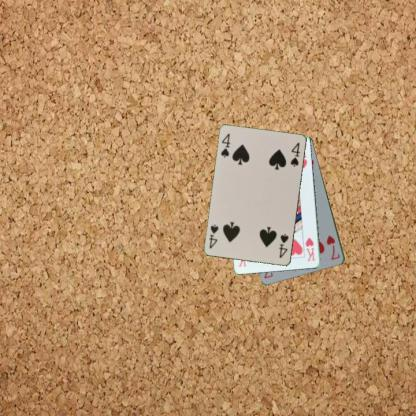4s: (276, 231, 290, 260), (218, 131, 232, 159)
7h: (324, 233, 341, 261)
Kh: (303, 235, 316, 262)
